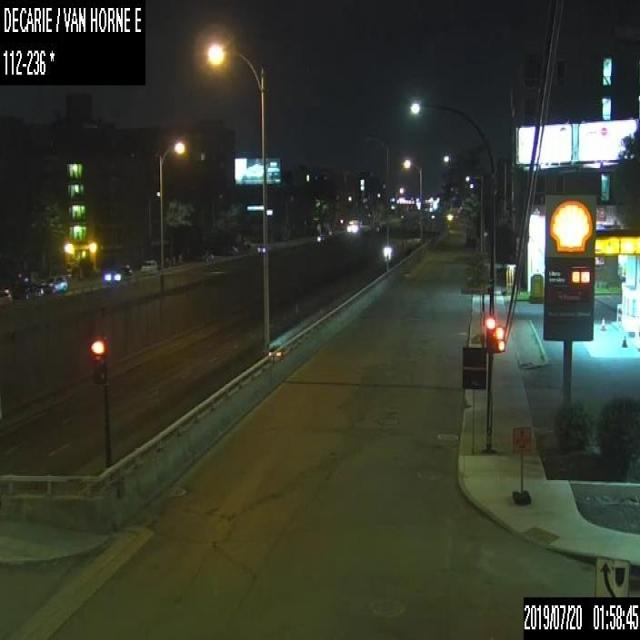construction: (511, 424, 531, 503), (599, 316, 605, 330), (621, 331, 626, 346)
vehicle: (0, 274, 42, 298), (101, 264, 132, 284), (42, 275, 66, 291), (344, 218, 362, 232), (139, 259, 158, 272)
